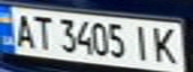0: (90, 19, 109, 57)
3: (54, 16, 78, 54)
4: (72, 18, 93, 56)
5: (106, 20, 130, 60)
A: (9, 11, 36, 50)
I: (127, 23, 157, 62)
K: (148, 24, 184, 66)
T: (30, 12, 57, 52)
